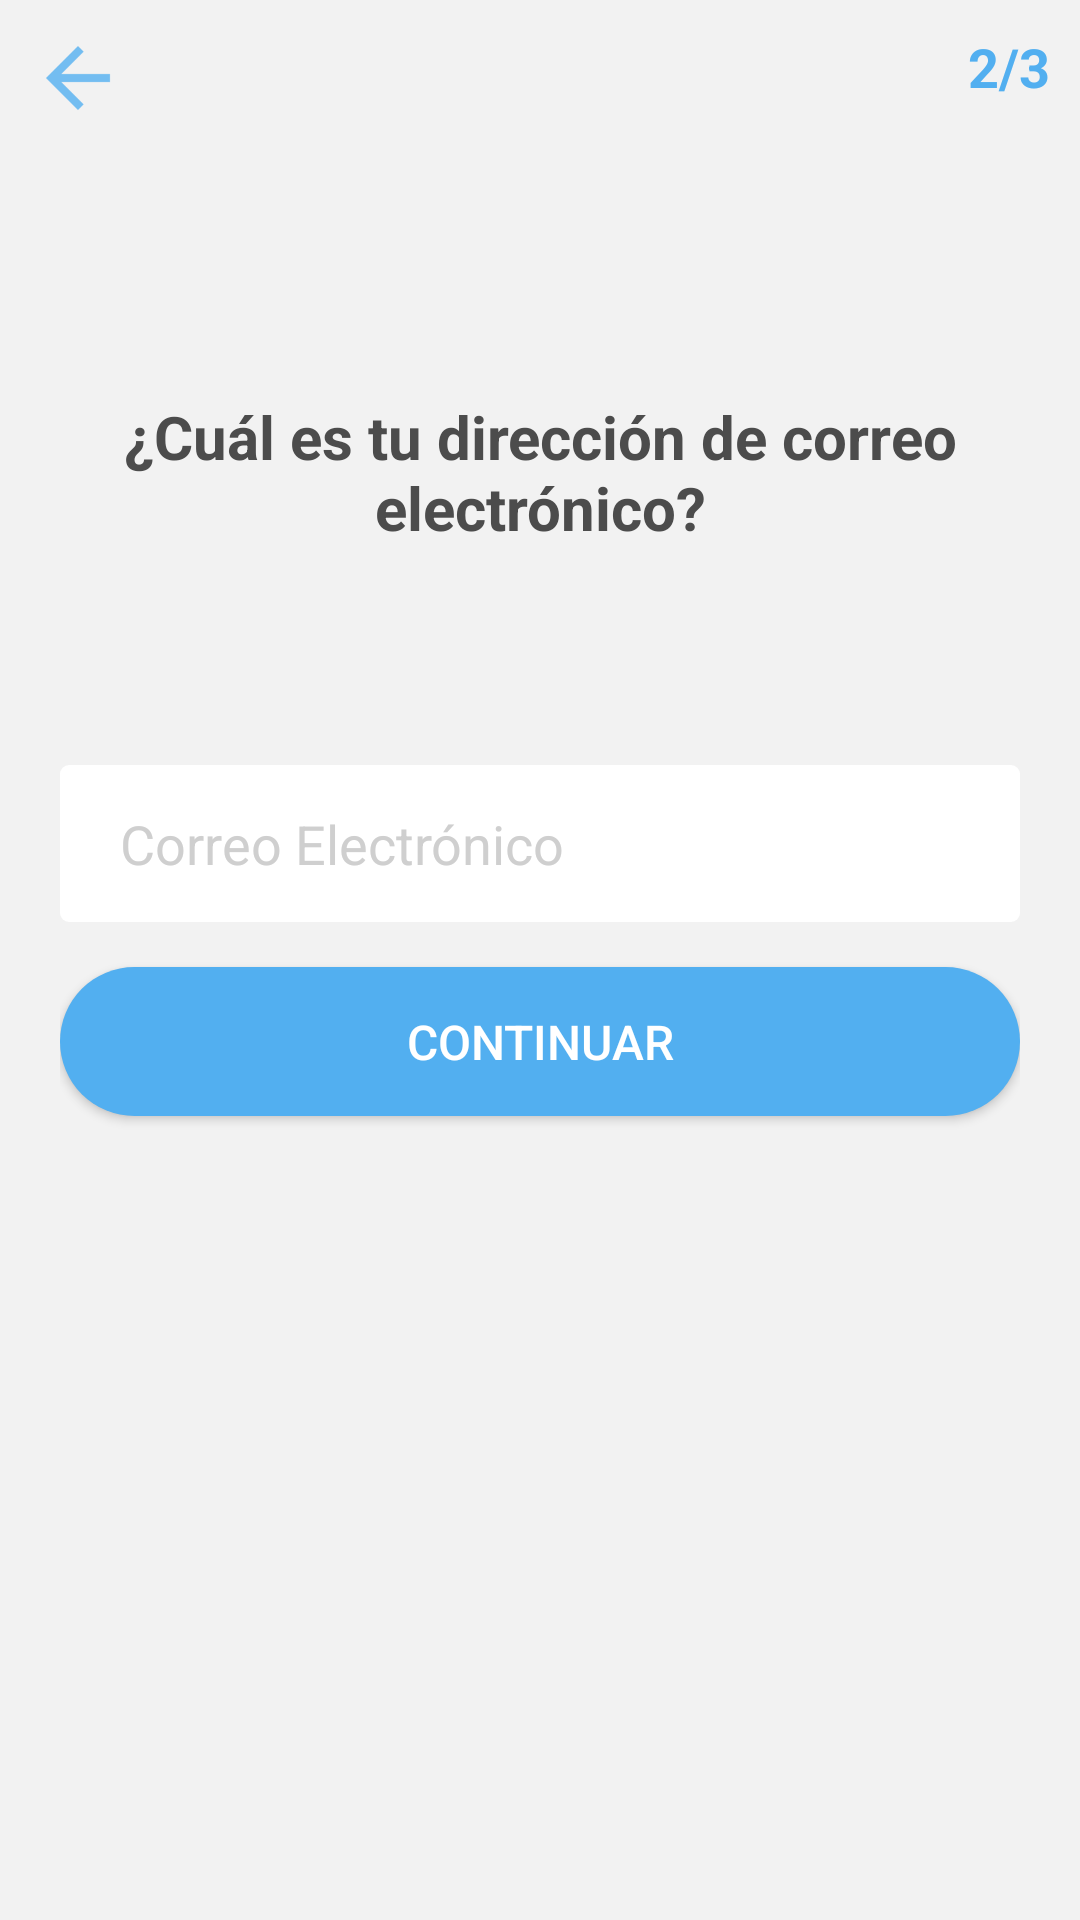

Point at icon controls on the screen. Image size 1080 × 1920, points as [x,y].
arrow back: [78,78]
